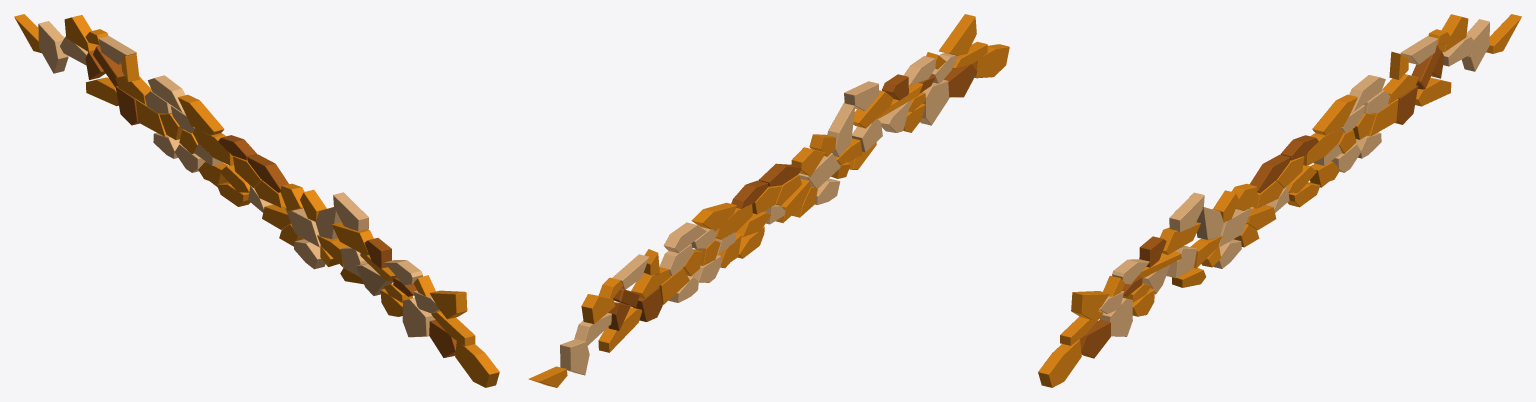
File: Muro3.fbx
The picture shows the model from 3 angles, left to right: view 1: azimuth 30°, elevation 25°; view 2: azimuth 150°, elevation 25°; view 3: azimuth 330°, elevation 25°; orthographic projection.
Visible parts, largest first — view 1: Piedrote.167; view 2: Piedrote.167; view 3: Piedrote.167.
Part boxes in pixels (<box>): Piedrote.167: <box>14,14,499,387</box>; Piedrote.167: <box>528,14,1009,387</box>; Piedrote.167: <box>1038,14,1521,387</box>.
Bounding box in the file's own units: 90.56 × 343 × 3363.
